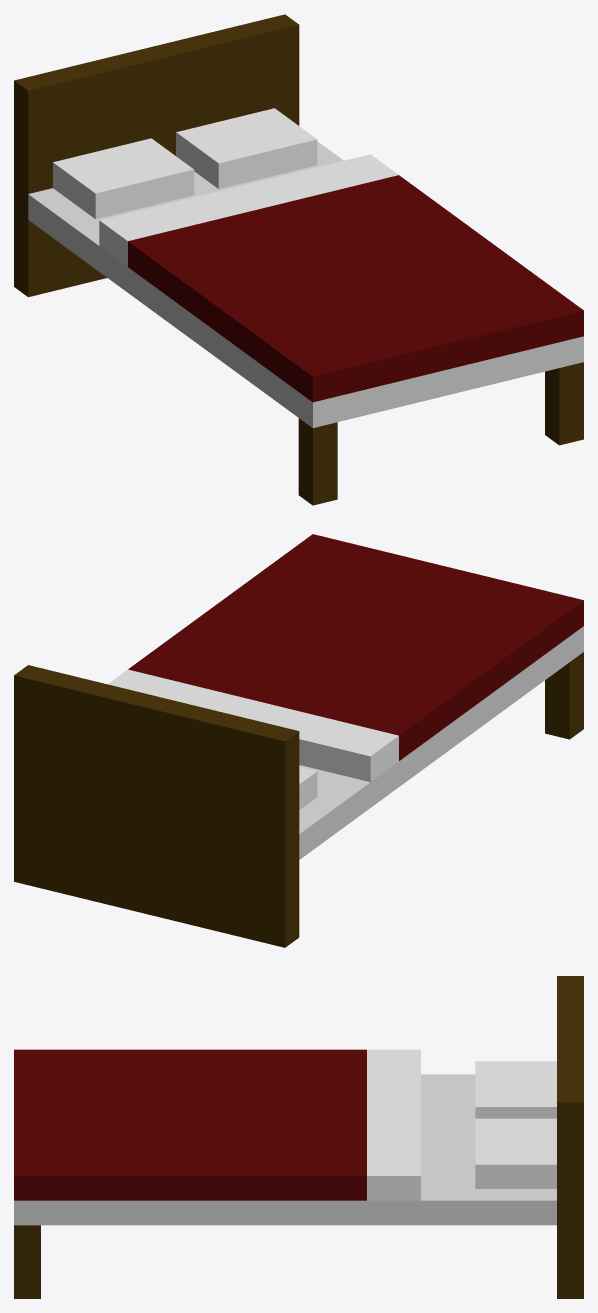
Rendered from bed.obj.
3 renders of one model, top to bottom at view 1: azimuth 30°, elevation 25°; view 2: azimuth 150°, elevation 25°; view 3: azimuth 270°, elevation 25°, orthographic. The views are drawn at different scales.
Size of the model in its own units: 1.1 by 0.8 by 2.1.
1 material, 1 textured.
